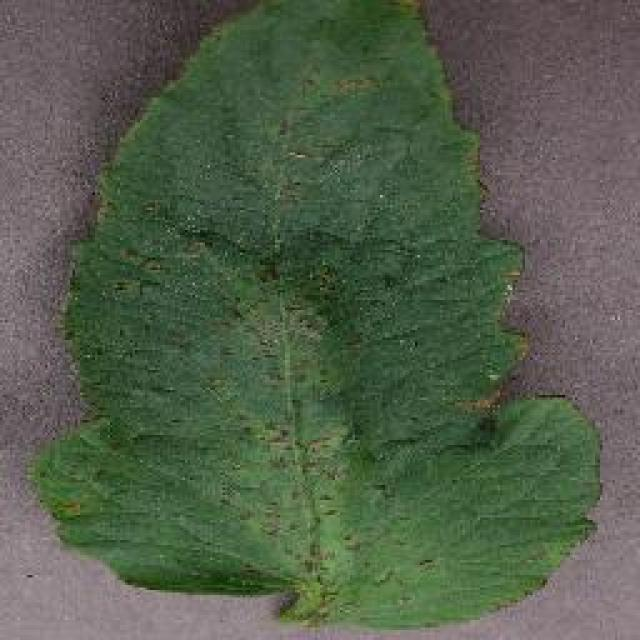Tomato___Bacterial_spot: (29, 2, 605, 628)
